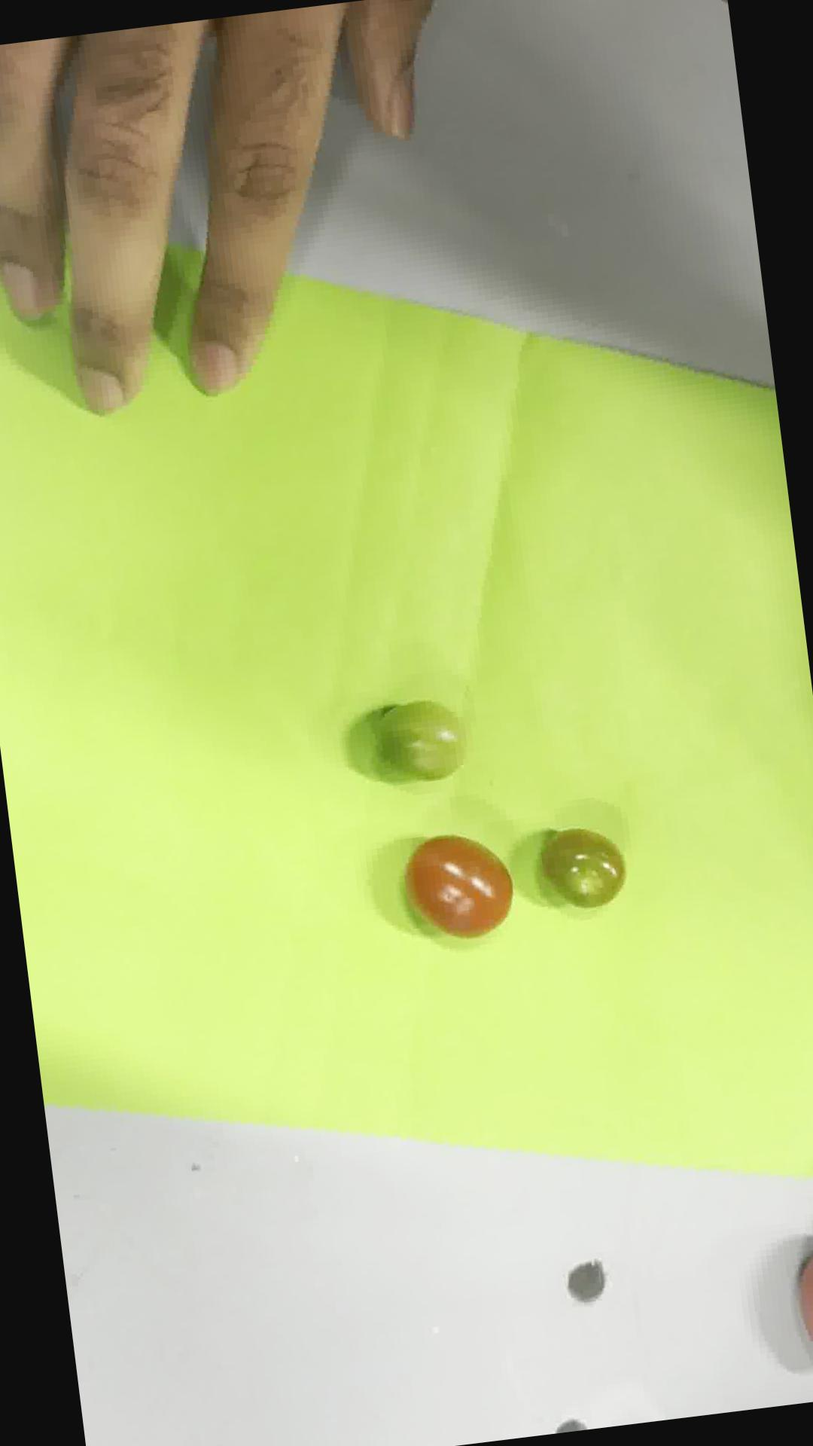green_cherry_tomato: (379, 700, 465, 779)
red_cherry_tomato: (404, 835, 512, 937)
yellow_cherry_tomato: (542, 828, 625, 907)
